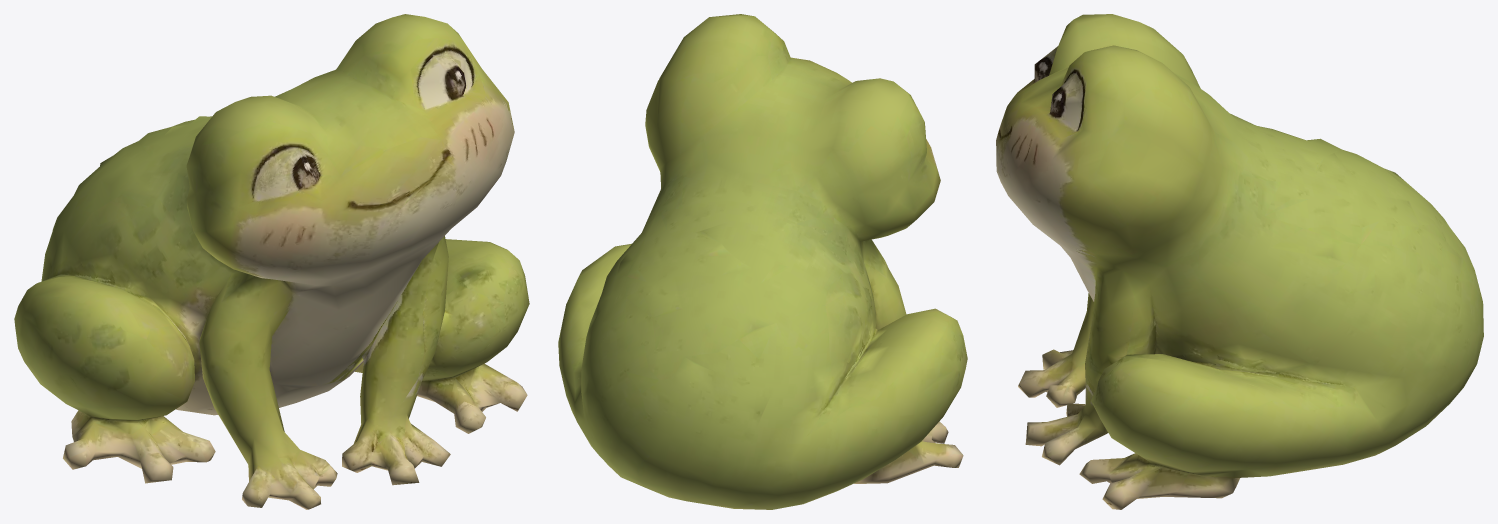
File: turtle-mt-frog.glb
3 renders of one model, left to right at view 1: azimuth 30°, elevation 25°; view 2: azimuth 150°, elevation 25°; view 3: azimuth 270°, elevation 25°, orthographic. The views are drawn at different scales.
Parts seen in each view (by area): view 1: animal-frog_Croak; view 2: animal-frog_Croak; view 3: animal-frog_Croak.
Part boxes in pixels (x1,y1,x2,y2): animal-frog_Croak: (14,14,529,509); animal-frog_Croak: (558,14,967,509); animal-frog_Croak: (996,14,1483,509).
Bounding box in the file's own units: 0.2223 × 0.2001 × 0.2123.
1 material, 1 textured.
